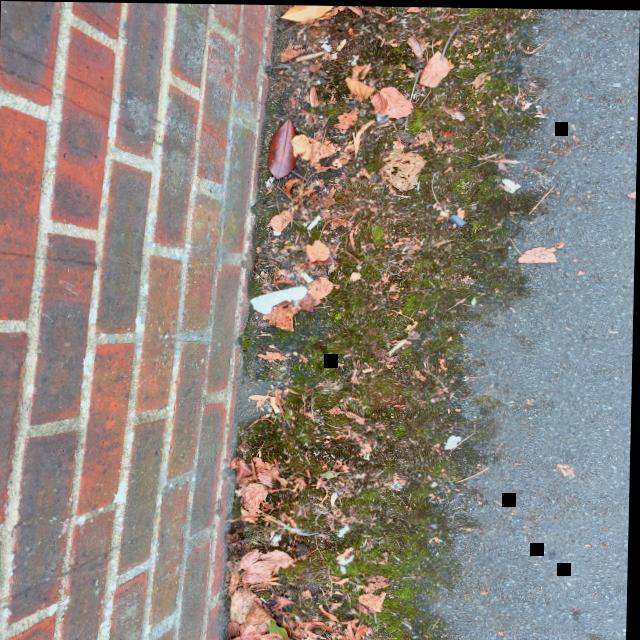Aluminium foil: (250, 285, 308, 312)
Other plastic bottle: (449, 212, 468, 228)
